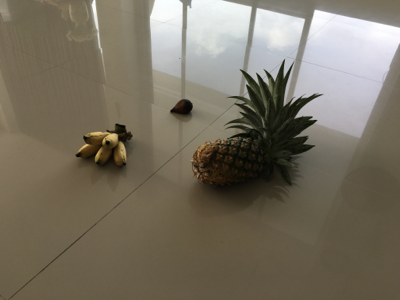banana: (76, 123, 133, 171)
pineapple: (192, 59, 324, 191)
snake fruit: (171, 99, 194, 118)
